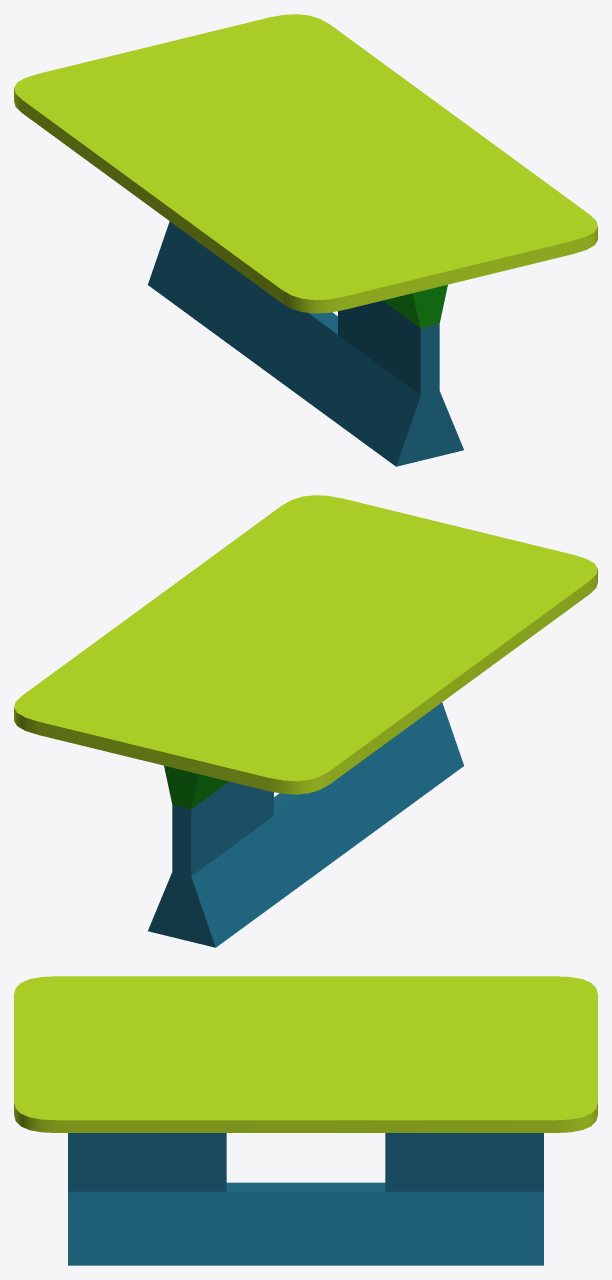
Rendered from Table.FBX.
3 views of the same model, one above another, from view 1: azimuth 30°, elevation 25°; view 2: azimuth 150°, elevation 25°; view 3: azimuth 270°, elevation 25° (orthographic). The views are drawn at different scales.
Parts seen in each view (by area): view 1: Box001; view 2: Box001; view 3: Box001.
Part boxes in pixels (x1,y1,x2,y2): Box001: (14, 14, 597, 466); Box001: (14, 495, 597, 947); Box001: (14, 976, 597, 1265).
Size of the model in its own units: 23.23 by 15.16 by 39.81.
